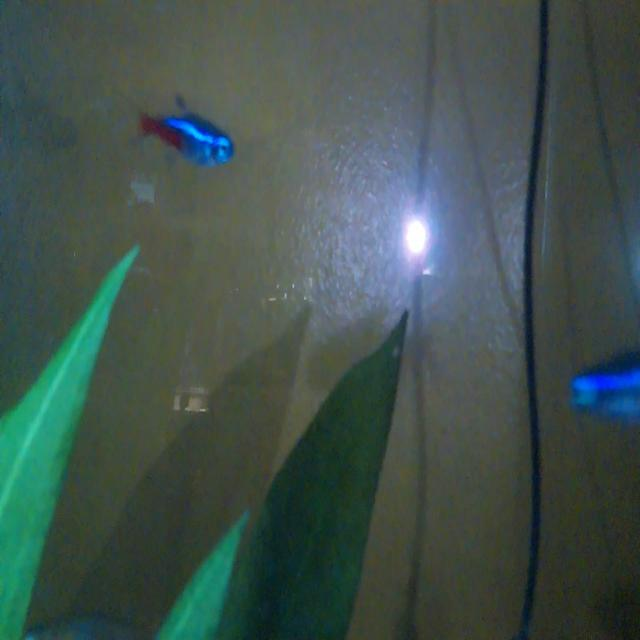fish: (134, 86, 235, 180)
